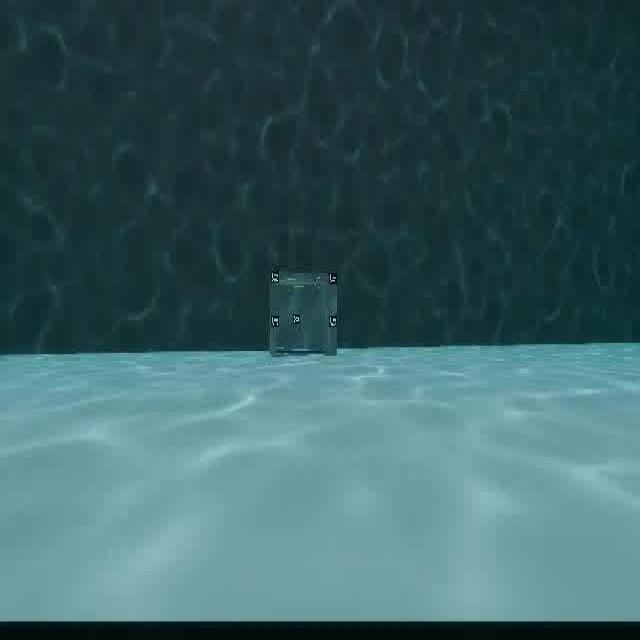Docking Station: (266, 258, 346, 368)
